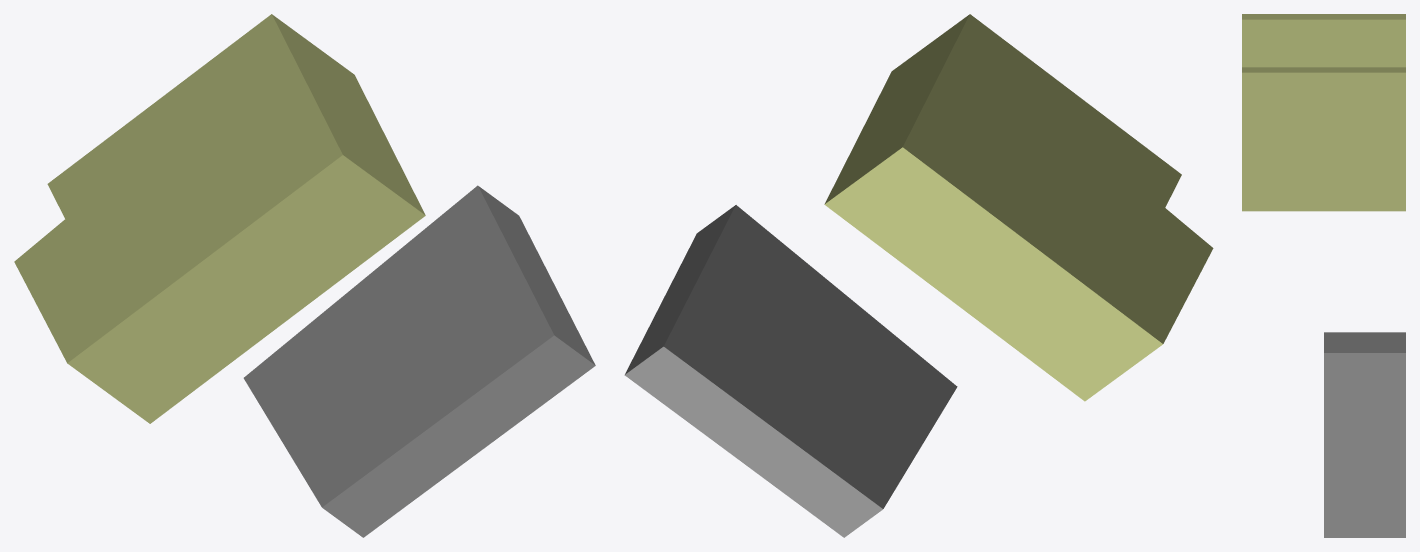
The picture shows the model from 3 angles, left to right: view 1: azimuth 30°, elevation 25°; view 2: azimuth 150°, elevation 25°; view 3: azimuth 270°, elevation 25°; orthographic projection. The views are drawn at different scales.
Visible parts, largest first — view 1: 0_1_0_2_2_0_1_1_1_0; view 2: 0_1_0_2_2_0_1_1_1_0; view 3: 0_1_0_2_2_0_1_1_1_0.
Boxes of the visible parts, x1,y1,x2,y2 form: 0_1_0_2_2_0_1_1_1_0: [14, 14, 595, 537]; 0_1_0_2_2_0_1_1_1_0: [624, 14, 1213, 537]; 0_1_0_2_2_0_1_1_1_0: [1242, 14, 1405, 537].
Size of the model in its own units: 22.57 by 20.19 by 6.
